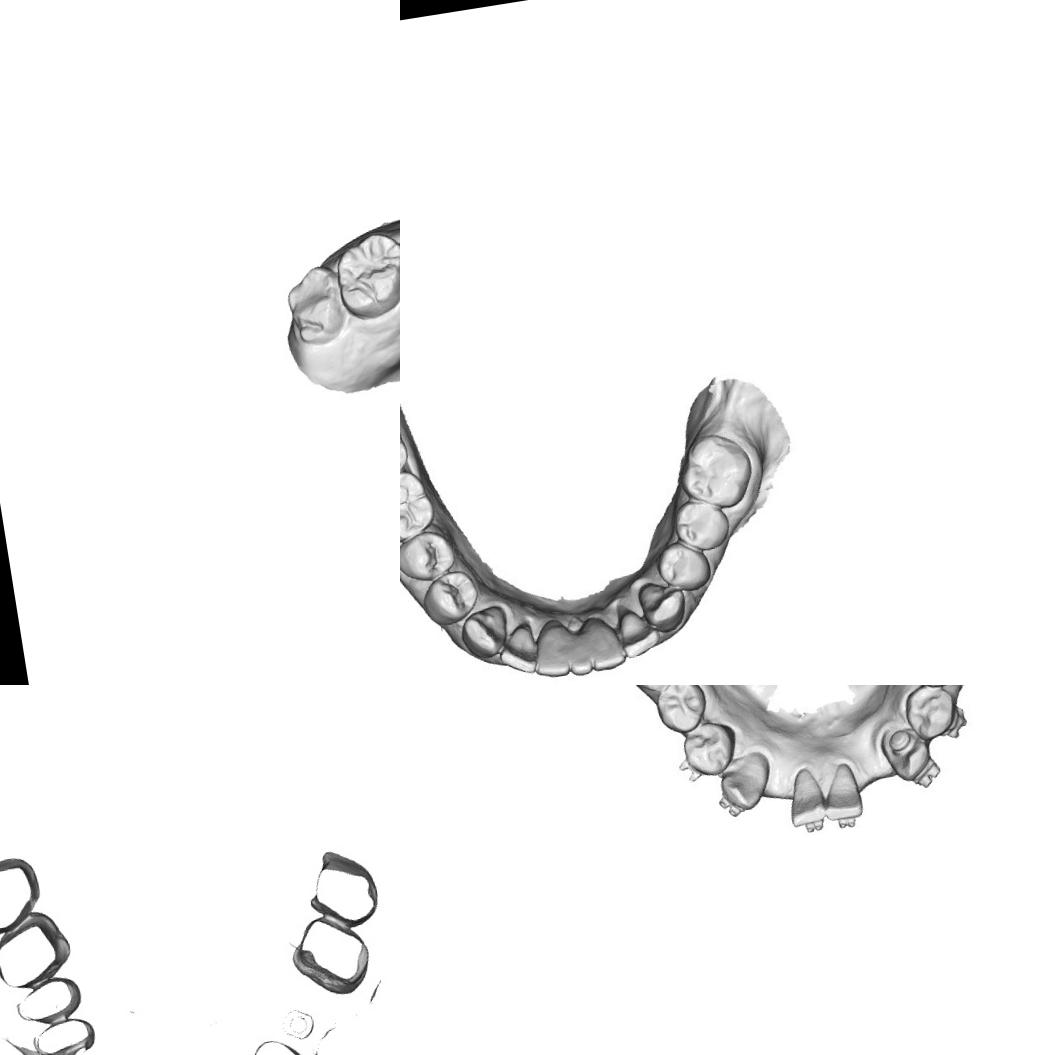canine: (714, 748, 778, 816), (876, 721, 936, 785), (457, 603, 512, 662), (636, 577, 690, 636)
incisor: (819, 759, 868, 826), (784, 764, 830, 834), (526, 617, 572, 681), (584, 613, 629, 673), (615, 606, 663, 660), (494, 622, 540, 678), (564, 632, 594, 678)
molar: (673, 428, 757, 515), (329, 228, 400, 324), (278, 260, 351, 350), (400, 466, 438, 545)
premolar: (677, 718, 742, 781), (418, 567, 482, 629), (670, 494, 732, 554), (652, 537, 714, 596), (900, 685, 962, 744), (400, 526, 459, 585), (650, 685, 712, 736)
